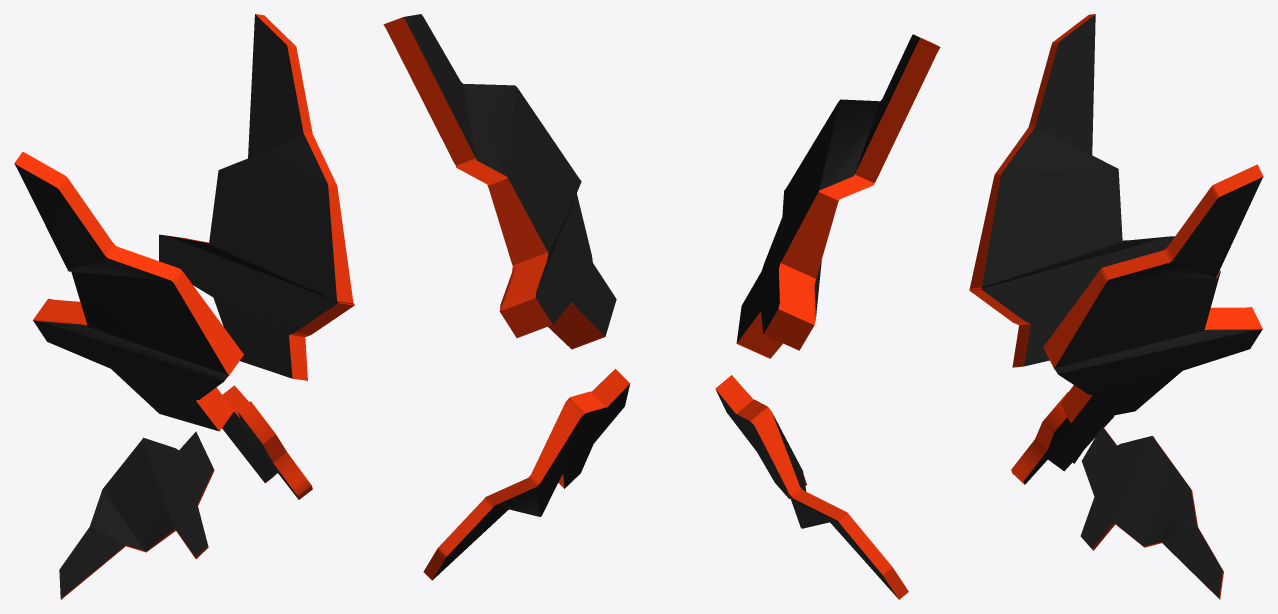
3 renders of one model, left to right at view 1: azimuth 30°, elevation 25°; view 2: azimuth 150°, elevation 25°; view 3: azimuth 270°, elevation 25°, orthographic. The views are drawn at different scales.
Visible parts, largest first — view 1: back.003, back.002, back.001, back; view 2: back.003, back.002, back, back.001; view 3: back.002, back.003, back, back.001.
Boxes of the visible parts, x1=… form: back.003: x1=159, y1=14, x2=354, y2=380; back.002: x1=14, y1=152, x2=243, y2=431; back.001: x1=59, y1=431, x2=214, y2=599; back: x1=222, y1=385, x2=312, y2=499; back.003: x1=383, y1=14, x2=616, y2=349; back.002: x1=736, y1=34, x2=940, y2=358; back: x1=423, y1=369, x2=630, y2=580; back.001: x1=715, y1=375, x2=908, y2=599; back.002: x1=969, y1=14, x2=1174, y2=367; back.003: x1=1043, y1=164, x2=1263, y2=423; back: x1=1080, y1=426, x2=1223, y2=599; back.001: x1=1011, y1=391, x2=1114, y2=484.
Bounding box in the file's own units: 122 × 91.44 × 150.
